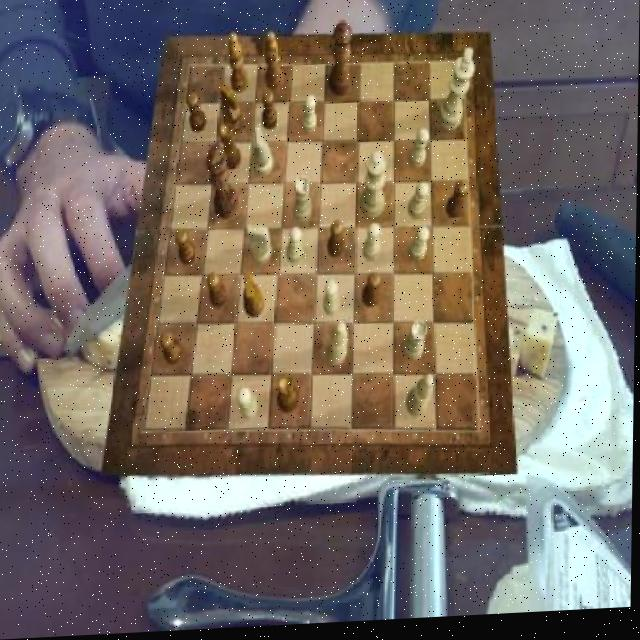bishop: (227, 35, 249, 97), (266, 34, 284, 95)
black-bishop: (206, 146, 240, 223)
black-king: (220, 87, 243, 140), (245, 274, 266, 320)
black-knight: (160, 331, 184, 367), (445, 185, 468, 222), (186, 96, 206, 136), (208, 275, 229, 312), (175, 230, 196, 267), (327, 225, 345, 263), (362, 277, 381, 312), (262, 93, 278, 134)
black-pawn: (328, 24, 352, 101)
black-queen: (218, 124, 241, 172), (277, 378, 300, 418)
black-rook: (407, 377, 435, 421), (327, 326, 349, 370)
white-bishop: (437, 53, 475, 136)
white-king: (253, 129, 274, 181), (246, 226, 271, 268)
white-knight: (409, 133, 429, 173), (408, 186, 429, 224), (238, 388, 260, 423), (409, 231, 430, 266), (364, 228, 382, 266), (286, 229, 303, 267), (324, 283, 341, 320), (301, 98, 317, 137)
white-pawn: (360, 155, 387, 223)
white-queen: (402, 325, 427, 366), (295, 180, 313, 226)
